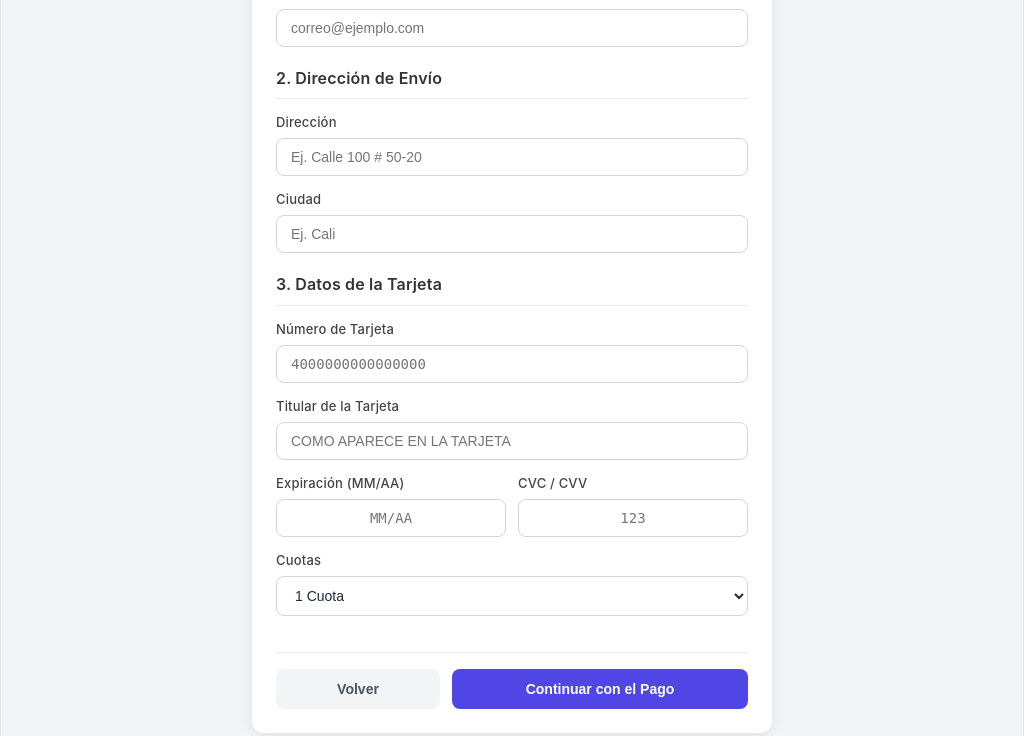
it: CustomerPaymentForm Component › shows validation error when submitting empty form
This screenshot has width=1024, height=736.
(page scrolled)
What coordinates should you click on to do the following:
click the button "Continuar con el Pago"
I would click on:
 (600, 689)
Its box is left=452, top=669, right=748, bottom=709.
(page scrolled)
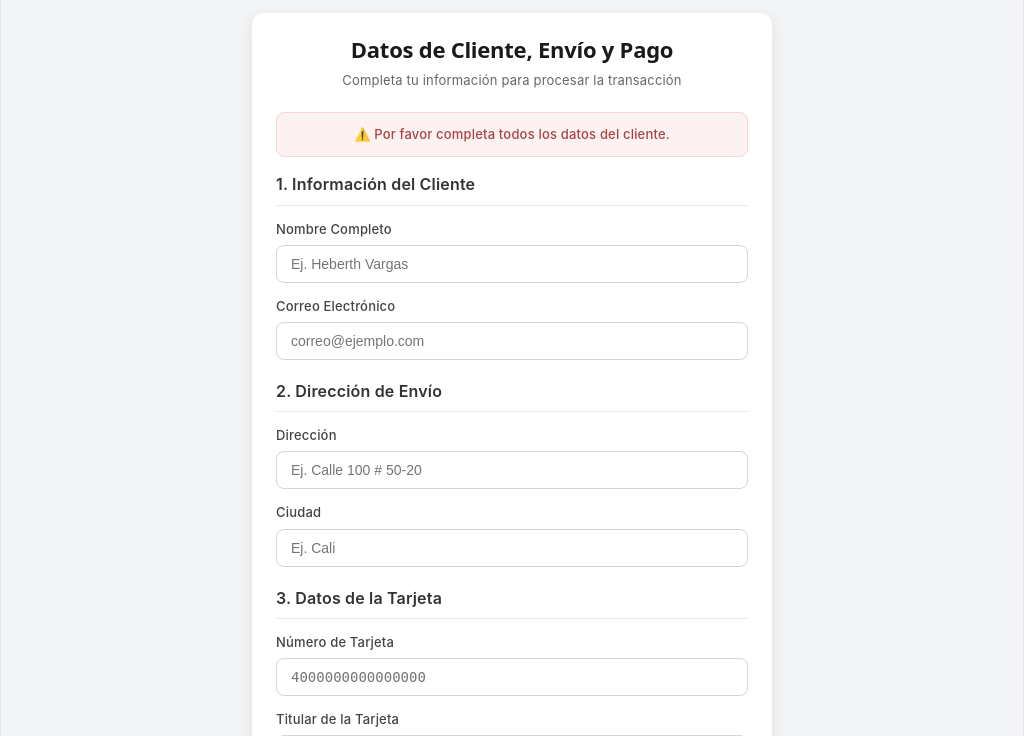
Result: the text "⚠️ Por favor completa todos los datos del cliente." is shown at left=276, top=112, right=748, bottom=157
